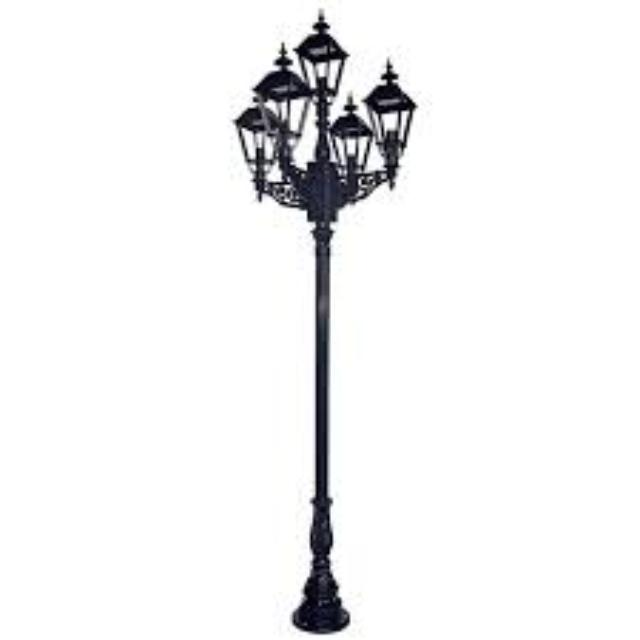Street-Lamp: (233, 2, 419, 632)
